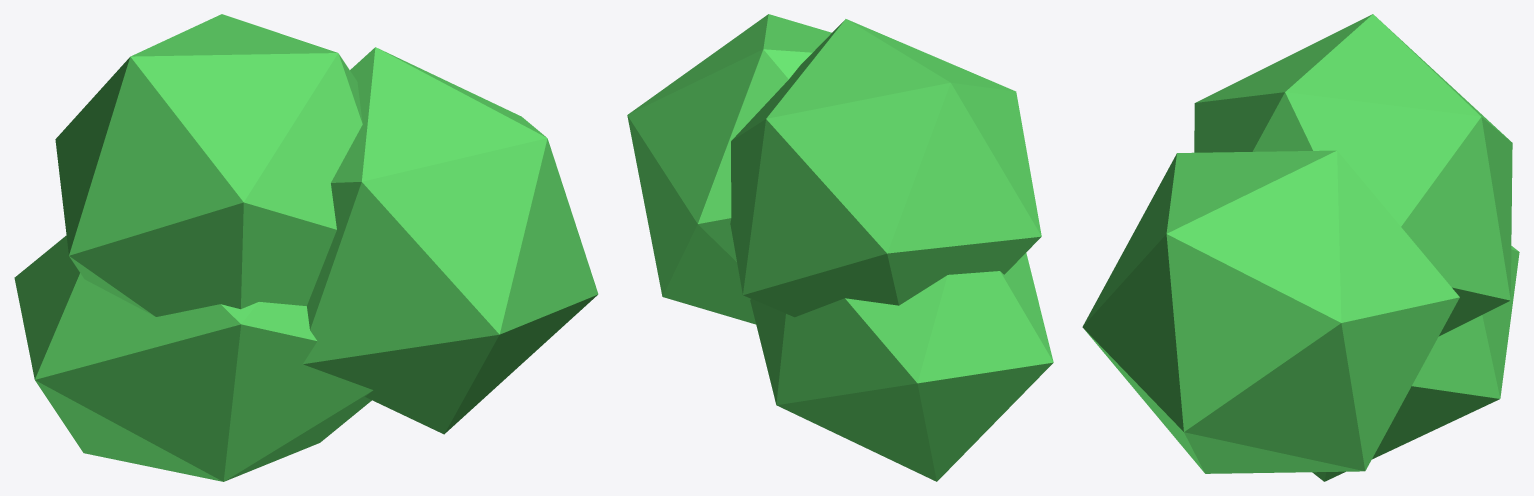
Rendered from krzaczek4.gltf.
3 renders of one model, left to right at view 1: azimuth 30°, elevation 25°; view 2: azimuth 150°, elevation 25°; view 3: azimuth 270°, elevation 25°, orthographic. The views are drawn at different scales.
Visible parts, largest first — view 1: Icosphere.013, Icosphere.014, Icosphere.015; view 2: Icosphere.014, Icosphere.015, Icosphere.013; view 3: Icosphere.013, Icosphere.014, Icosphere.015.
Part boxes in pixels (x1,y1,x2,y2): Icosphere.013: [303, 47, 598, 434]; Icosphere.014: [55, 14, 362, 316]; Icosphere.015: [14, 235, 373, 481]; Icosphere.014: [730, 19, 1041, 317]; Icosphere.015: [750, 253, 1053, 481]; Icosphere.013: [627, 14, 831, 324]; Icosphere.013: [1082, 150, 1459, 473]; Icosphere.014: [1194, 14, 1512, 336]; Icosphere.015: [1312, 246, 1519, 481].
Bounding box in the file's own units: 1.75 × 1.45 × 1.44.
